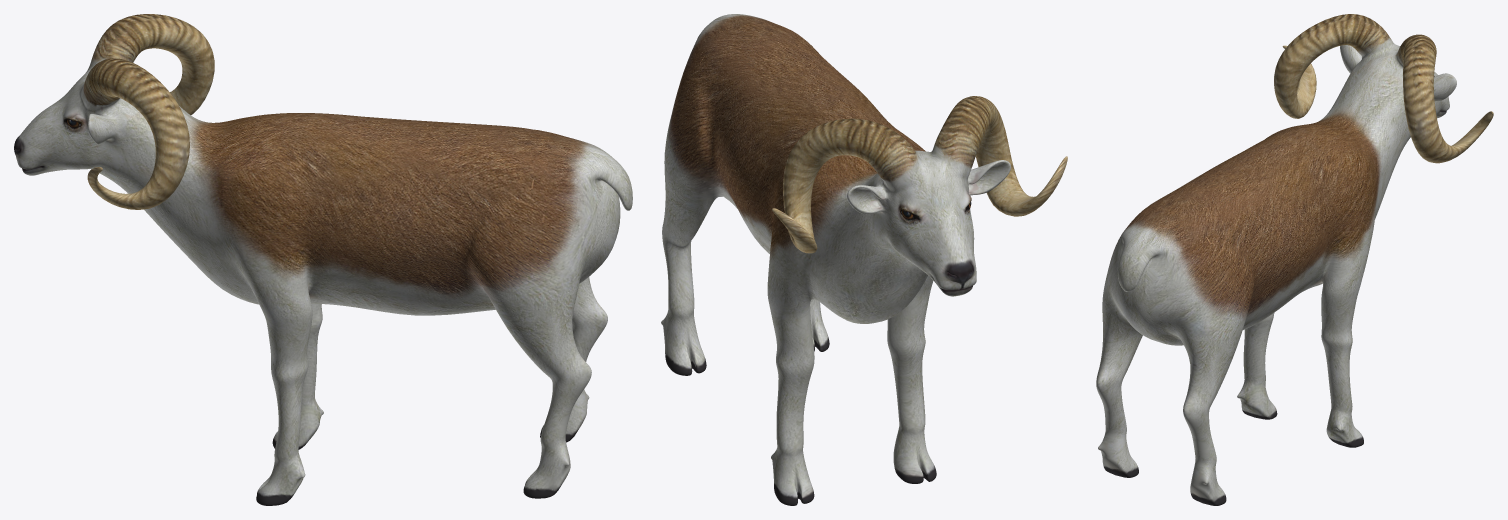
The model's file is sheep3.obj.
3 renders of one model, left to right at view 1: azimuth 30°, elevation 25°; view 2: azimuth 150°, elevation 25°; view 3: azimuth 270°, elevation 25°, orthographic. The views are drawn at different scales.
Parts seen in each view (by area): view 1: sheep.001; view 2: sheep.001; view 3: sheep.001.
Boxes of the visible parts, x1,y1,x2,y2 form: sheep.001: [14, 14, 632, 505]; sheep.001: [661, 14, 1067, 505]; sheep.001: [1096, 14, 1493, 505].
Bounding box in the file's own units: 1.06 × 0.9525 × 0.9565.
1 material, 1 textured.
